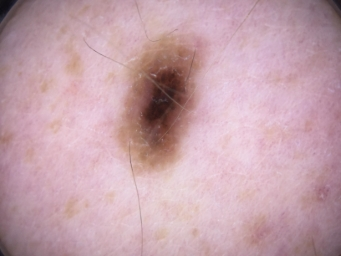melanoma: (123, 34, 204, 170)
